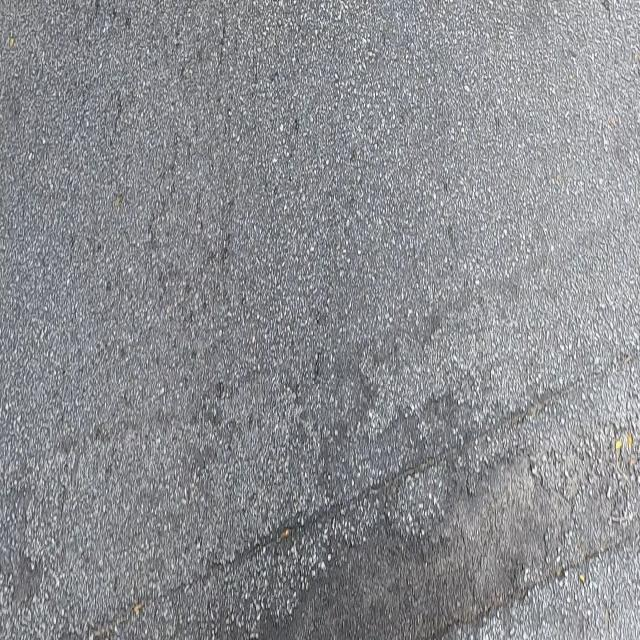Retak-Melintang: (63, 350, 640, 640), (424, 527, 637, 640)
